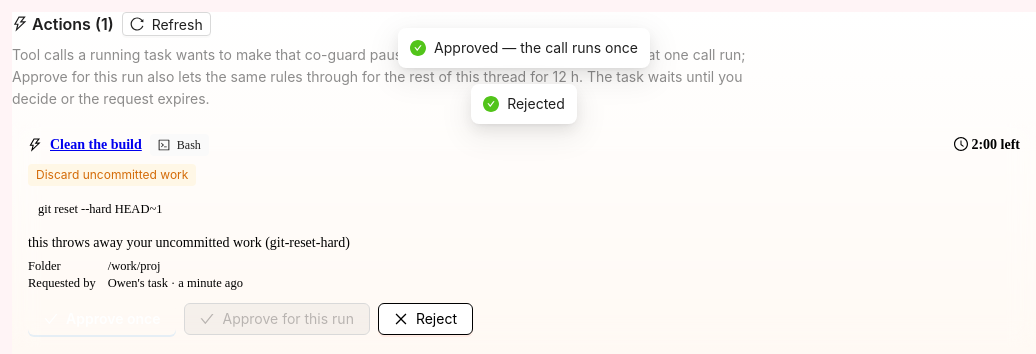
ActionApprovals cards › a 409 "expired" shows the Expired state
Click the button "Approve once" at (102, 319), box x1=28 y1=303 x2=176 y2=335
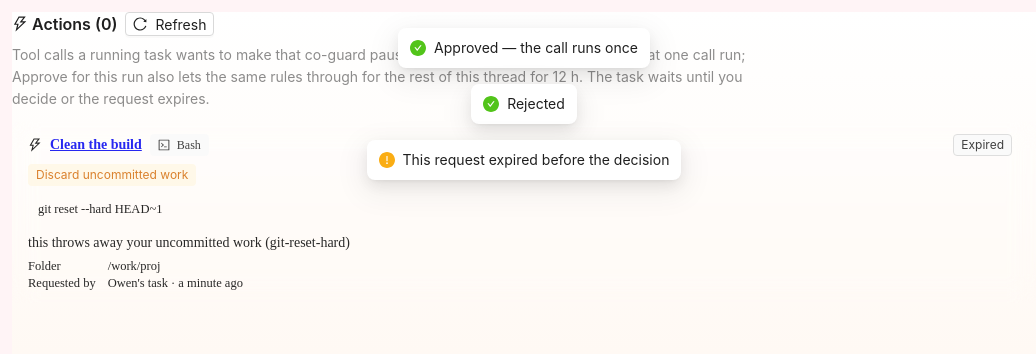
Now the text "Expired" is shown, box x1=953 y1=134 x2=1012 y2=156
